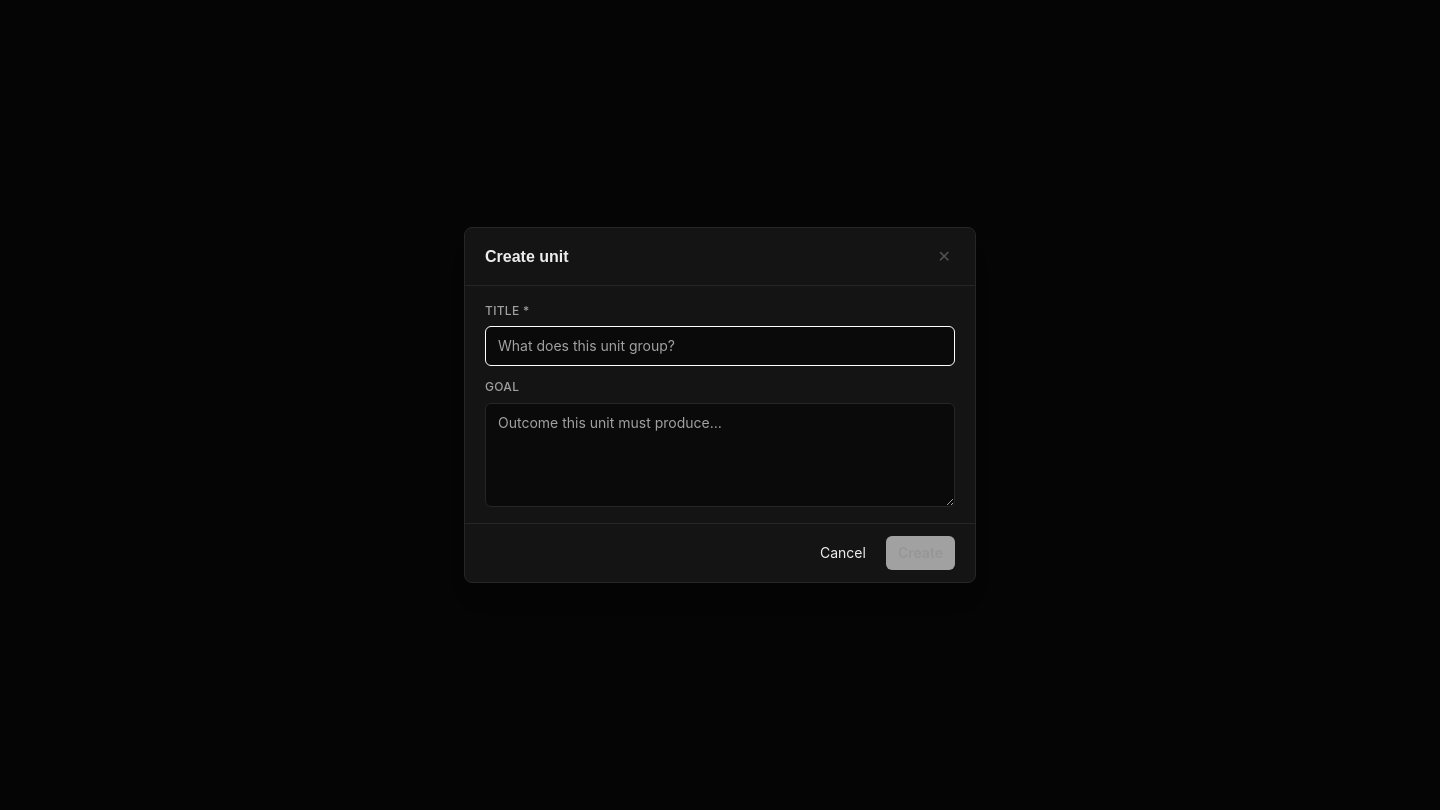
UnitCreateModal › surfaces daemon errors and re-enables submit
In the field with test id "unit-create-title": coordinates (720, 346) left=485, top=326, right=955, bottom=366, type "X"
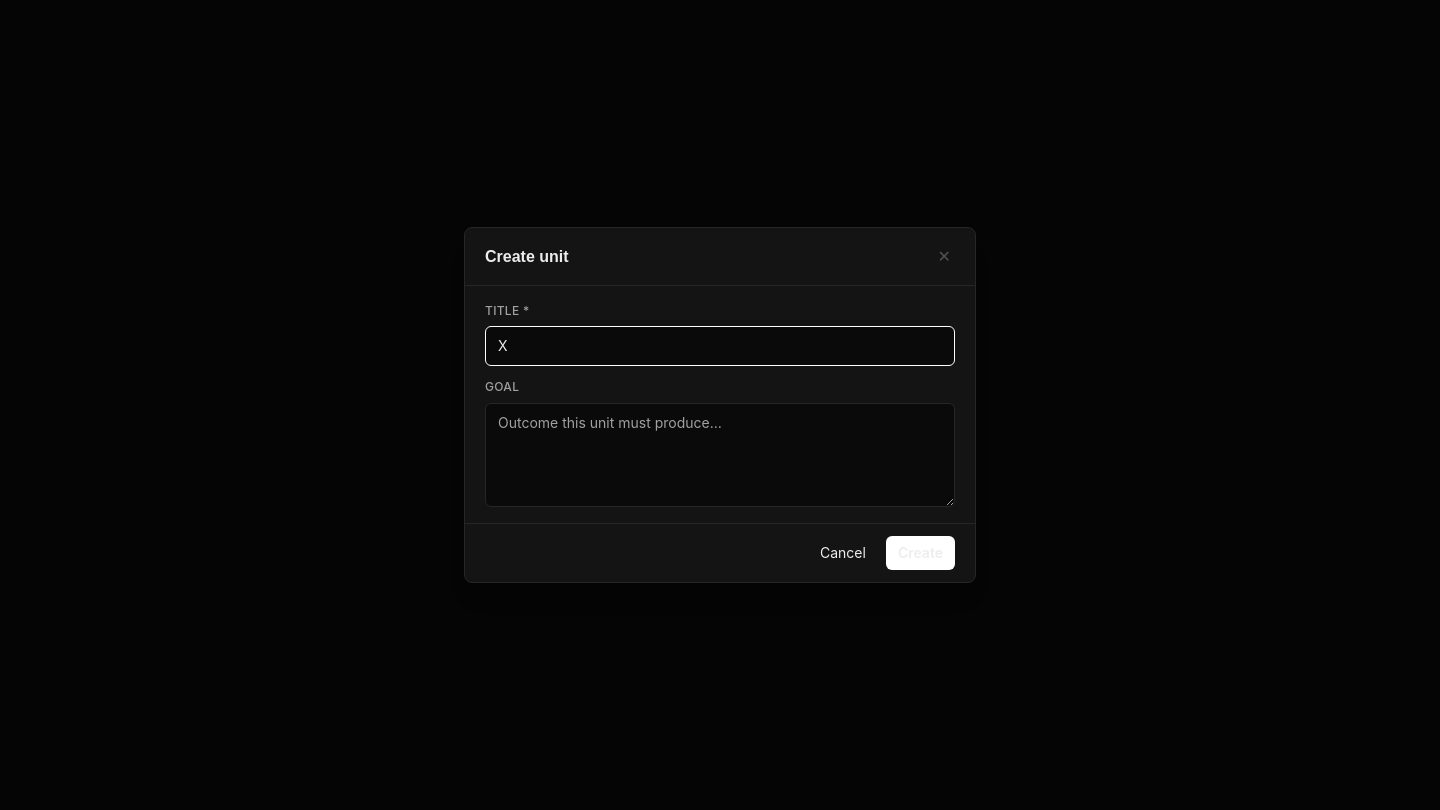
Click the button with test id "unit-create-submit": coordinates (920, 553) left=886, top=536, right=955, bottom=570
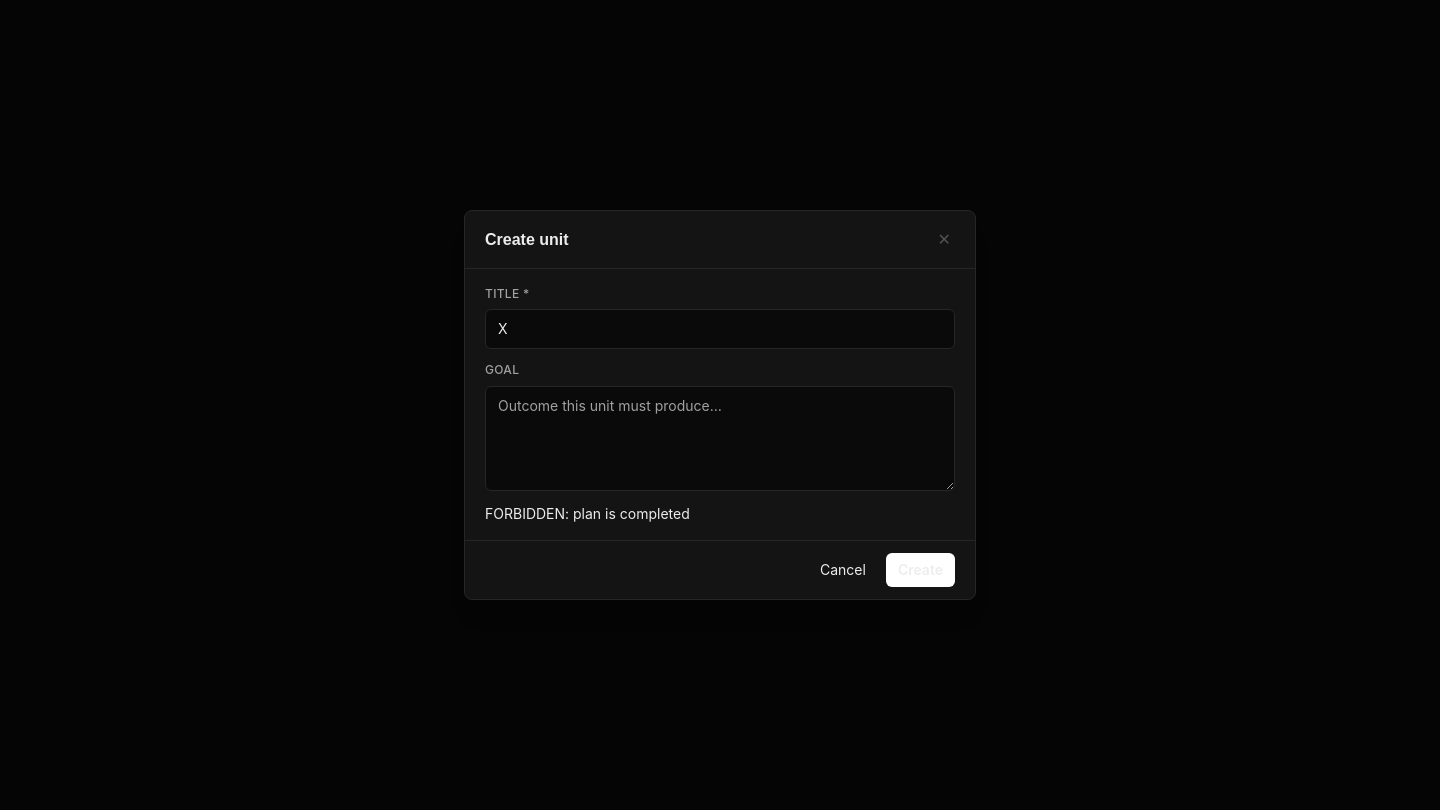
Expected: the button with test id "unit-create-submit" is enabled, left=886, top=553, right=955, bottom=587
Expected: the message with test id "unit-create-error" reads "FORBIDDEN: plan is completed", left=485, top=504, right=690, bottom=522
